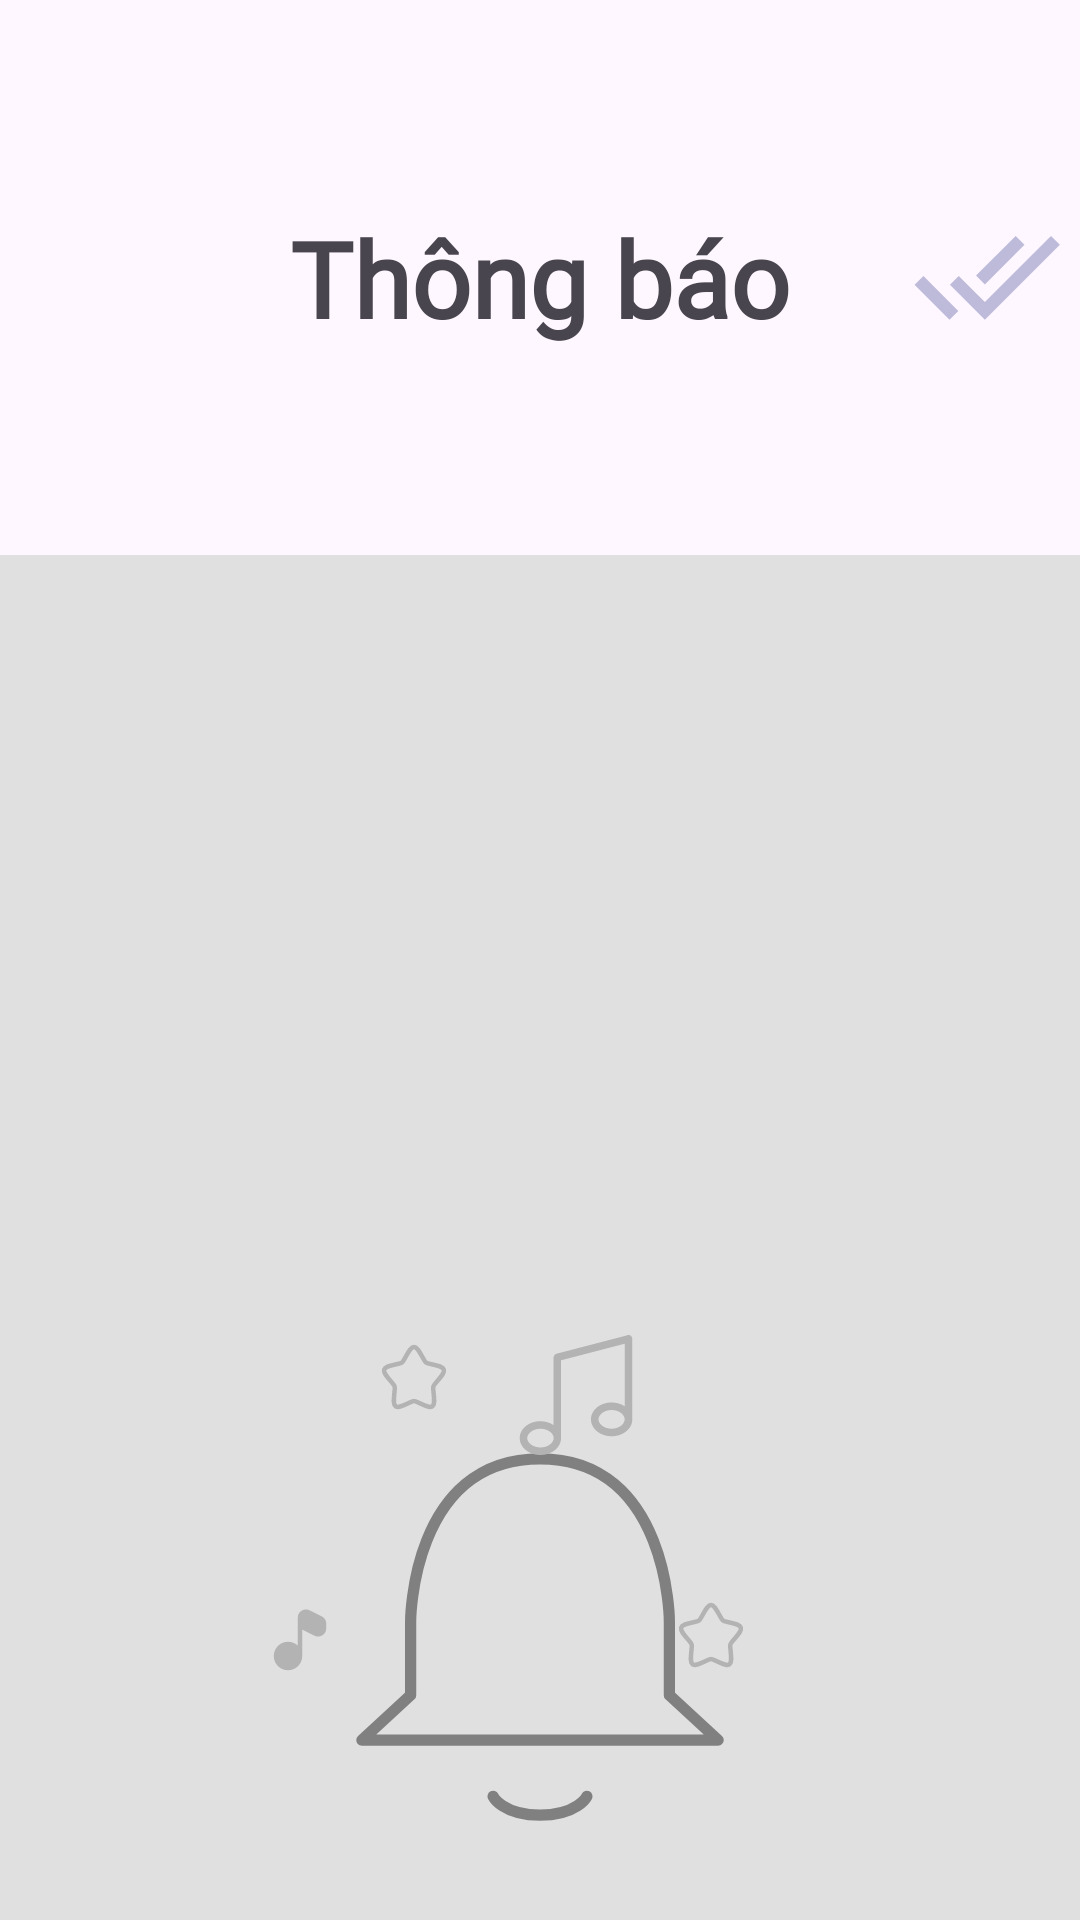

Point at icon controls on the screen. Image size 1080 x 1920, points as (x,y).
done all: (987,278)
music note: (576,1395), (300,1640)
